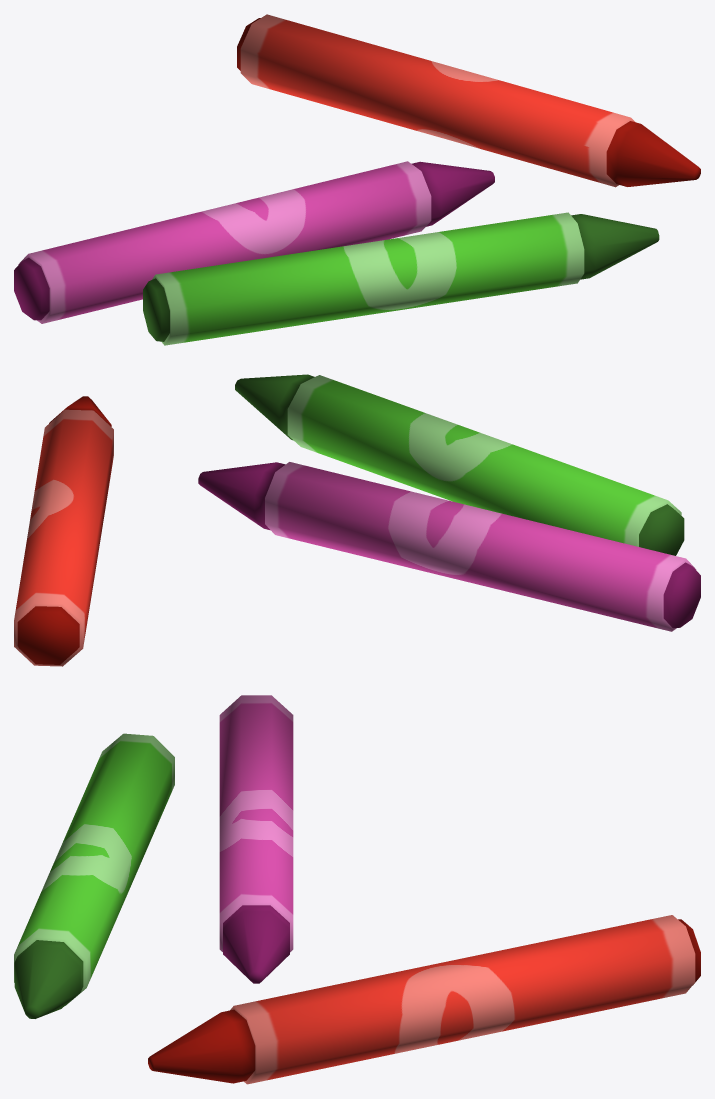
The model's file is Crayons.fbx.
3 renders of one model, top to bottom at view 1: azimuth 30°, elevation 25°; view 2: azimuth 150°, elevation 25°; view 3: azimuth 270°, elevation 25°, orthographic. The views are drawn at different scales.
Visible parts, largest first — view 1: Crayons; view 2: Crayons; view 3: Crayons.
Part boxes in pixels (x1,y1,x2,y2): Crayons: [14, 14, 700, 345]; Crayons: [14, 374, 700, 666]; Crayons: [14, 695, 700, 1084].
Size of the model in its own units: 36.48 by 3.34 by 31.05.
1 material, 1 textured.
